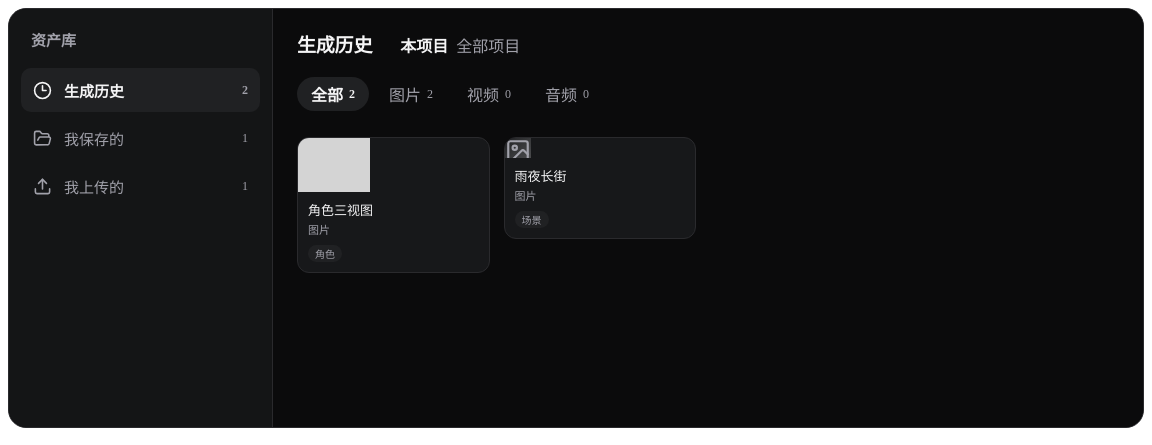
Test case: AssetLibrary › renders the generated section by default and switches sections
Expected: the heading "生成历史" is shown, [297,30,372,57]
Expected: the button with aria-label "预览角色三视图" is shown, [298,138,488,245]
Click the button "我保存的 1".
click(140, 138)  # box [21,116,260,160]
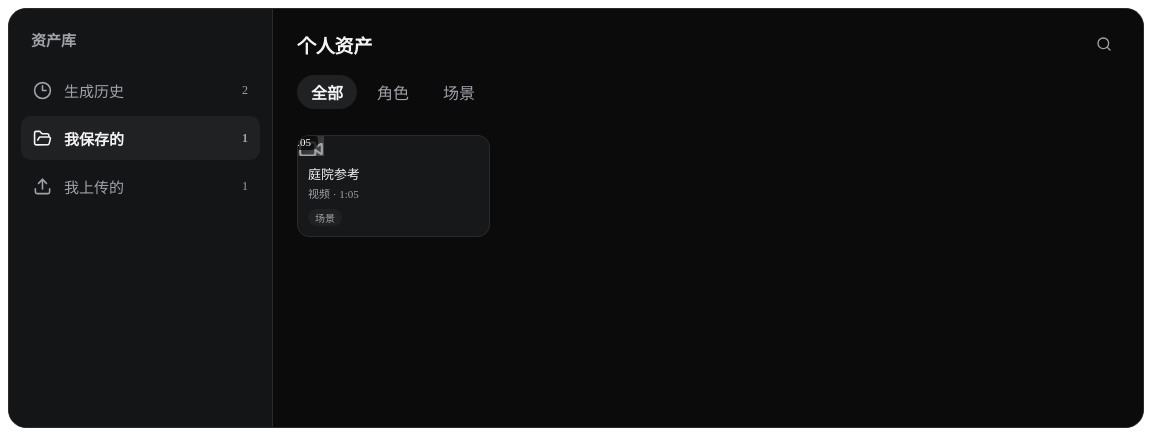
Expected: the button with aria-label "预览庭院参考" is shown, [298,136,488,208]
